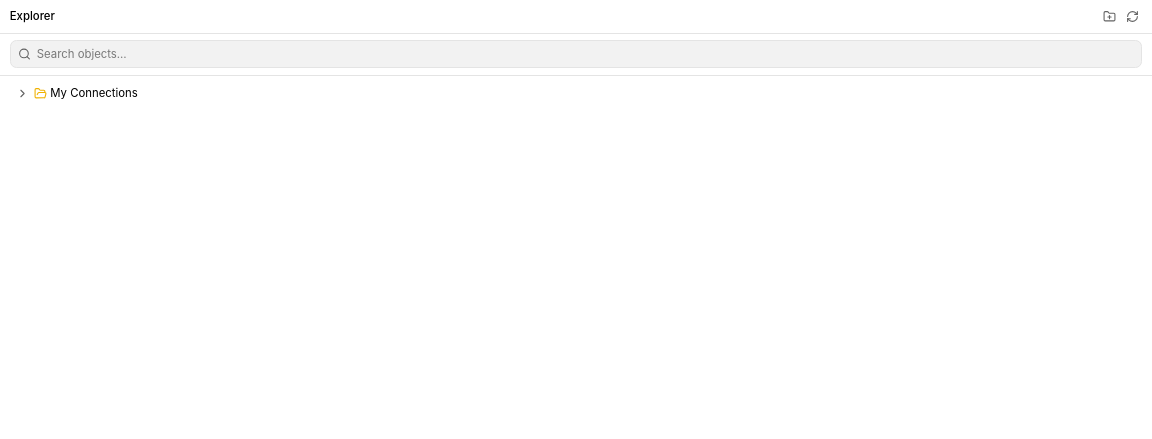
Scenario: DatabaseExplorer › filters the tree by the search query and shows 'No matches' when nothing matches
This screenshot has width=1152, height=439.
Type "Alpha" into the field with placeholder "Search objects…" at coordinates (576, 54), box [10,40,1142,68]
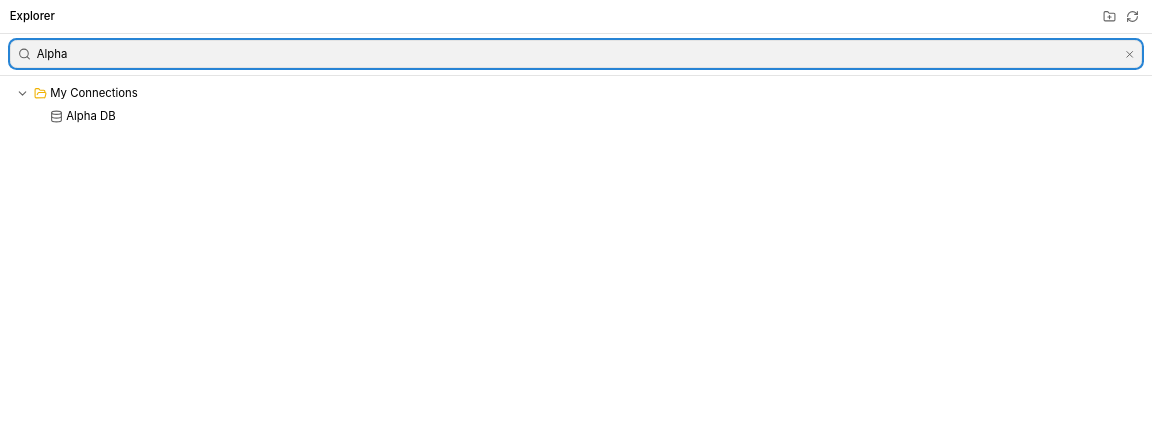
Expected: the text "Alpha DB" is shown, [66,108,116,124]
Replace the text in the field with placeholder "Search objects…" with "zzzz-nope" at coordinates (576, 54), box [10,40,1142,68]
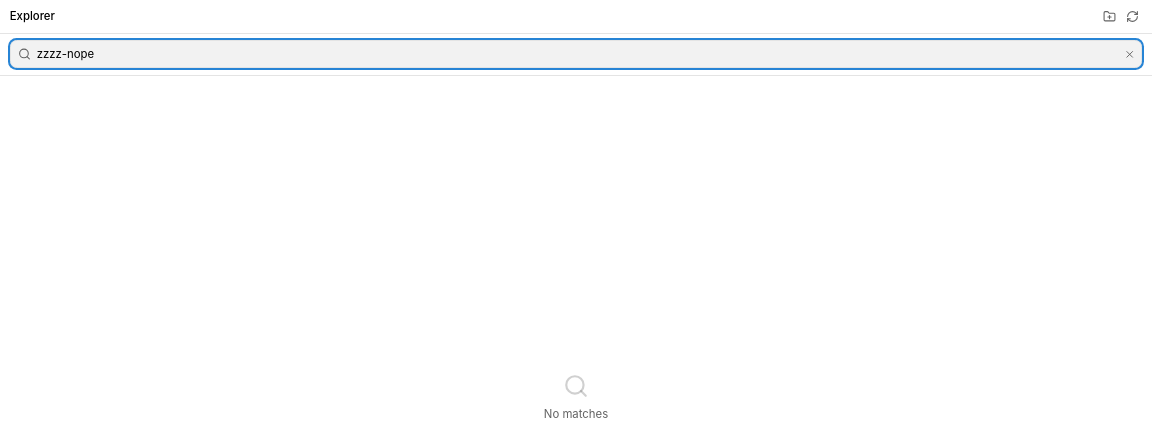
Expected: the text "No matches" is shown, [544,406,608,422]
